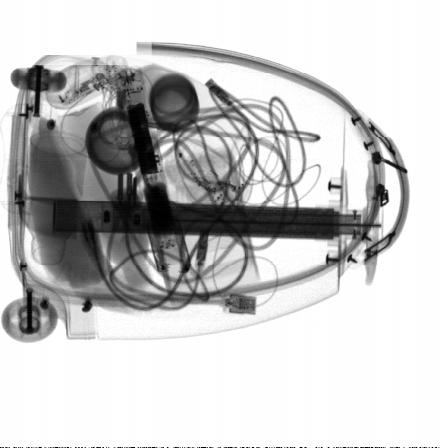Baton: (113, 62, 190, 274)
